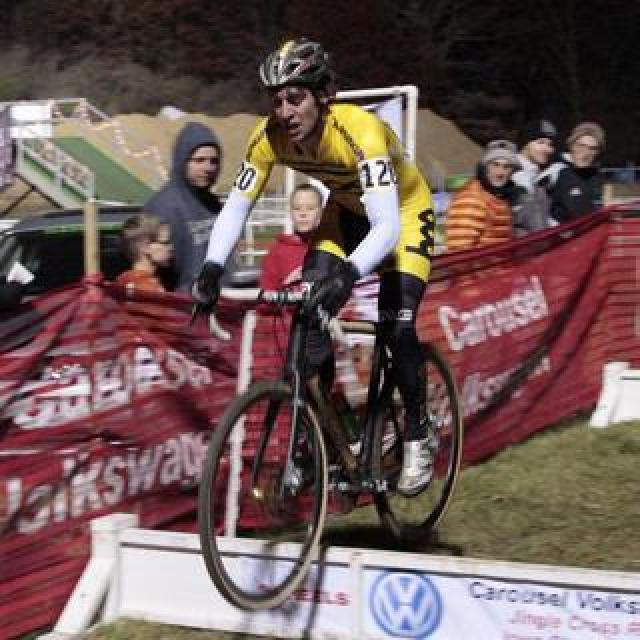MC-Bike: (248, 50, 432, 538), (144, 120, 228, 294), (442, 140, 532, 250), (548, 120, 616, 224), (268, 176, 326, 276)
Person: (200, 264, 460, 610)
